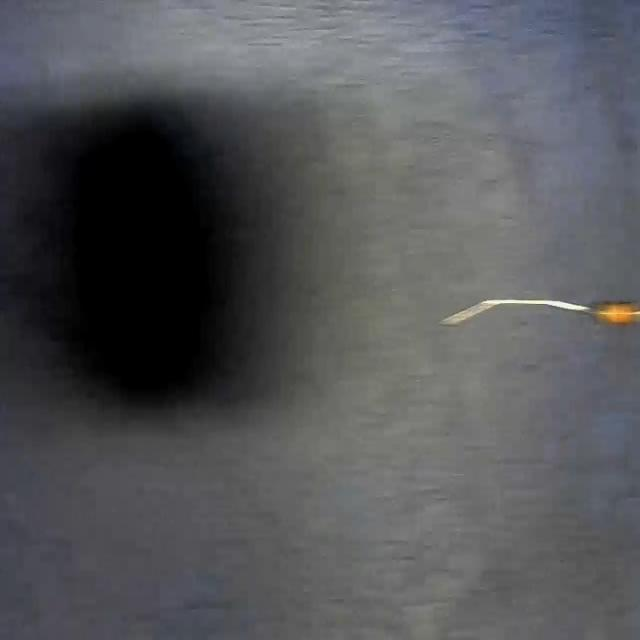resistor: (438, 279, 640, 333)
